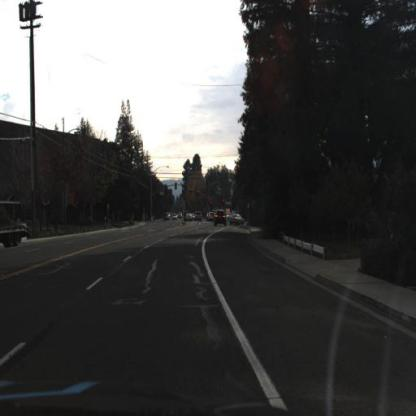car: (229, 211, 245, 229), (214, 210, 228, 227)
